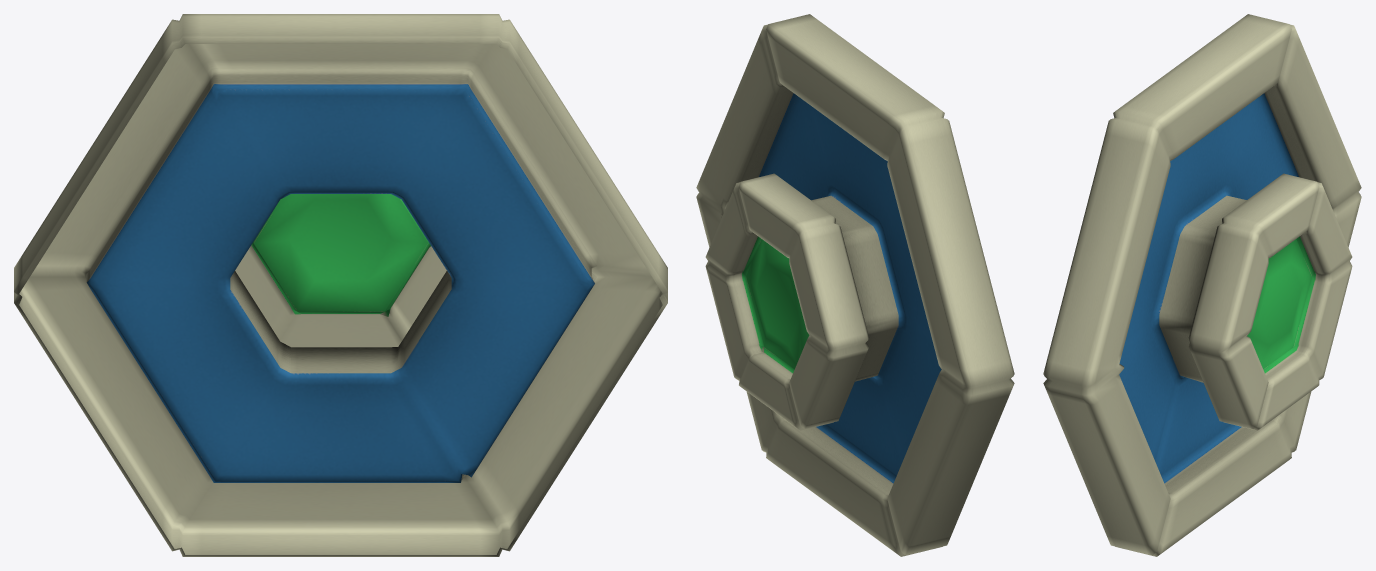
The model's file is fountain.fbx.
3 views of the same model, side by side, from view 1: azimuth 30°, elevation 25°; view 2: azimuth 150°, elevation 25°; view 3: azimuth 270°, elevation 25° (orthographic). The views are drawn at different scales.
Visible parts, largest first — view 1: Fountain; view 2: Fountain; view 3: Fountain.
Part boxes in pixels (bbox=[...]): Fountain: bbox=[14, 14, 667, 556]; Fountain: bbox=[696, 14, 1014, 556]; Fountain: bbox=[1043, 14, 1361, 556].
Size of the model in its own units: 540 by 520 by 344.
